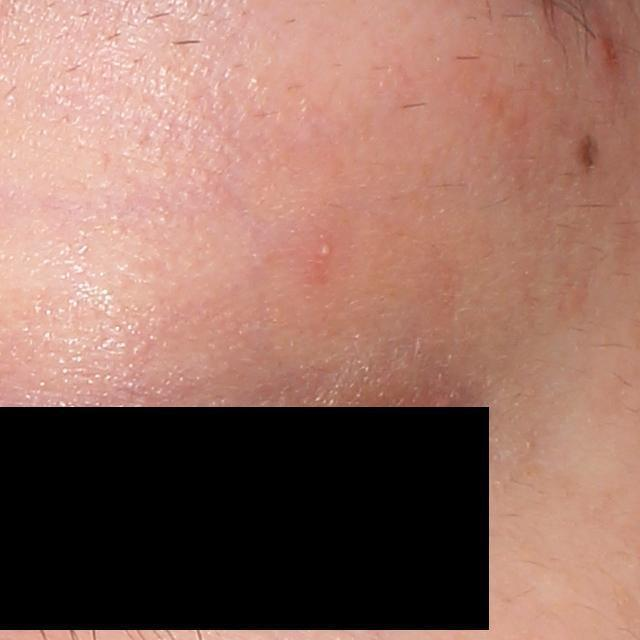nevus: (567, 131, 600, 177)
pustule: (316, 241, 334, 263)
